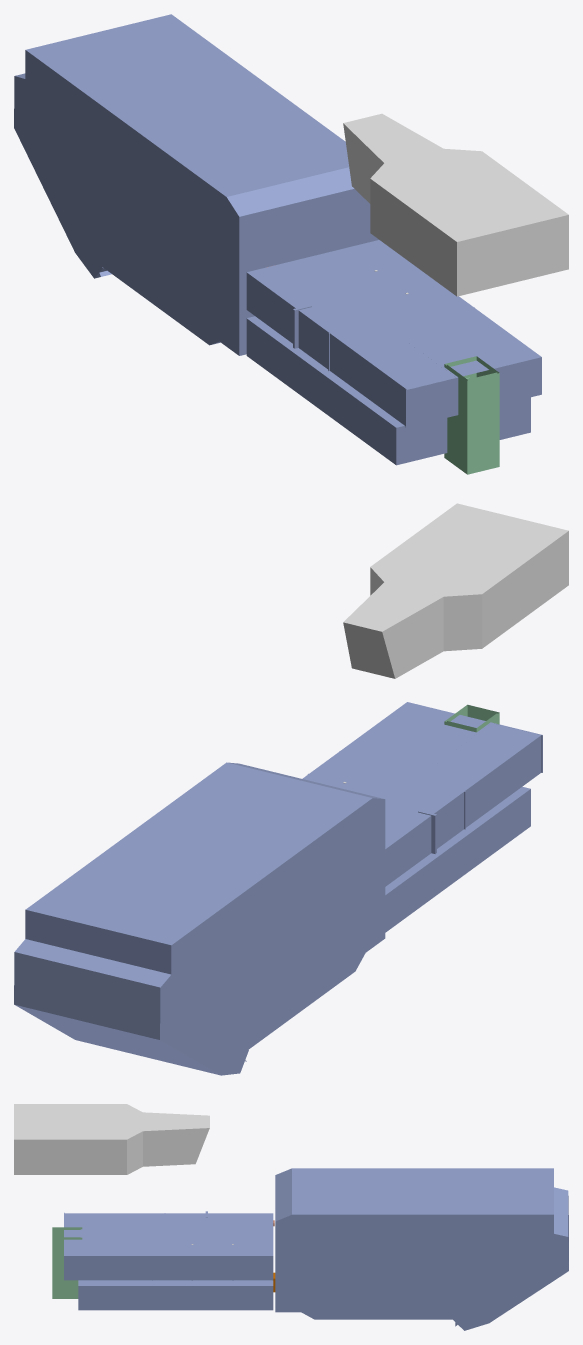
File: BaseLayout.fbx
3 renders of one model, top to bottom at view 1: azimuth 30°, elevation 25°; view 2: azimuth 150°, elevation 25°; view 3: azimuth 270°, elevation 25°, orthographic. The views are drawn at different scales.
Visible parts, largest first — view 1: Plane.003, Plane.009, Cube.003, Plane.005, Plane.006, Plane.004; view 2: Plane.003, Cube.003, Plane.009, Plane.004, Plane.005, Plane.006; view 3: Plane.003, Plane.009, Cube.003, Plane.005, Plane.004, Plane.006.
Part boxes in pixels (x1,y1,x2,y2): Plane.003: (22,14,378,355); Plane.009: (246,240,541,427); Cube.003: (343,113,568,296); Plane.005: (246,316,530,465); Plane.006: (444,356,499,474); Plane.004: (14,73,106,278); Plane.003: (25,762,385,1061); Cube.003: (343,503,568,678); Plane.009: (302,702,541,886); Plane.004: (14,939,248,1075); Plane.005: (385,786,530,932); Plane.006: (444,704,499,732); Plane.003: (275,1168,558,1326); Plane.009: (64,1213,273,1280); Cube.003: (14,1104,209,1174); Plane.005: (78,1280,273,1310); Plane.004: (453,1187,568,1330); Plane.006: (52,1227,82,1298).
Bounding box in the file's own units: 1627 × 3040 × 8221.
